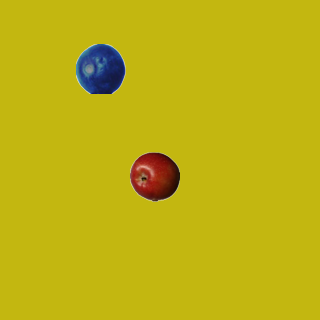Apple Braeburn: (129, 151, 179, 201)
Huckleberry: (75, 43, 125, 93)
